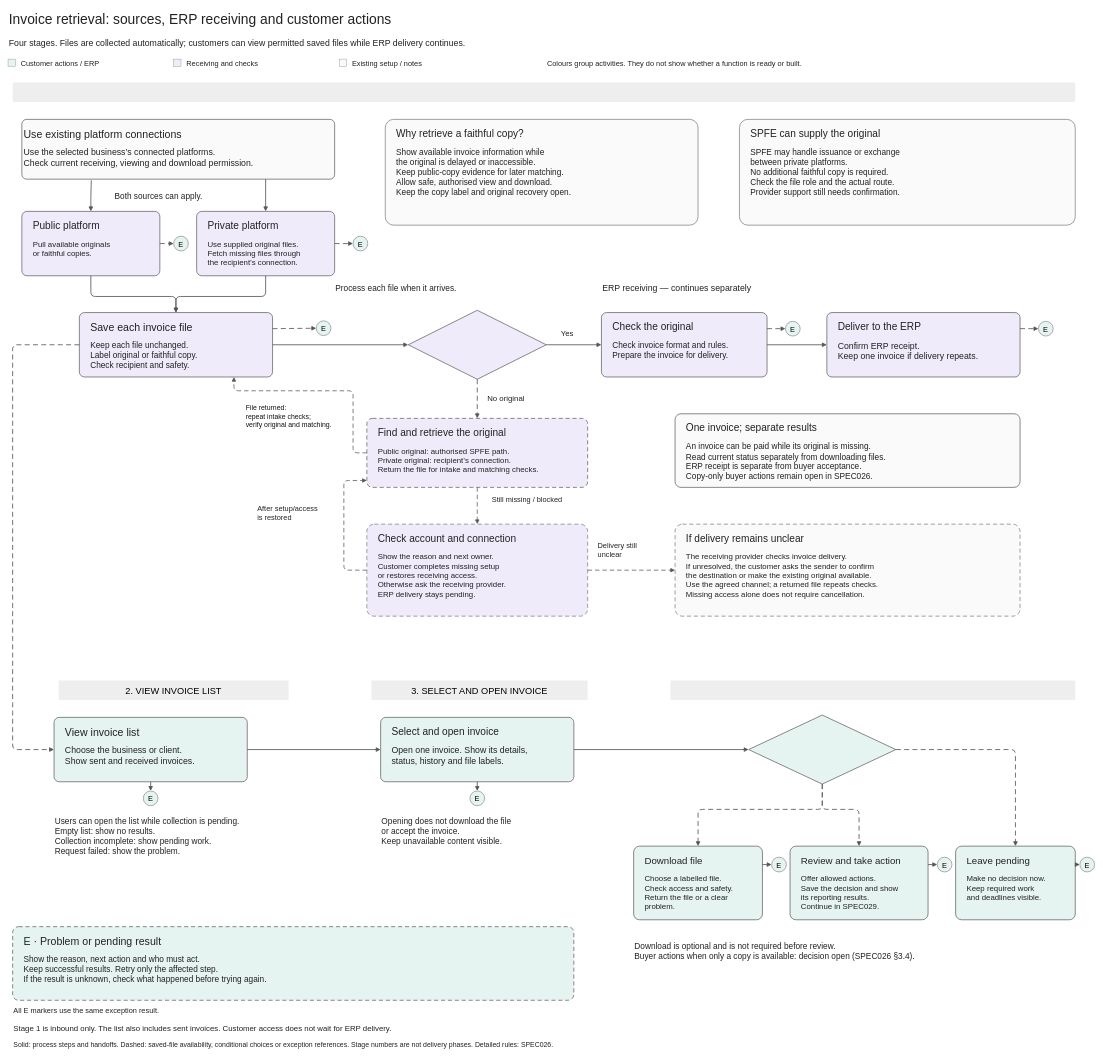
Image size: 1103x1058. Some labels were removed from this diagram. Each missing label, with the centre of its shape:
"1. RECEIVE AND SAVE INVOICES — AUTOMATIC" goes at [543,92].
"4. CHOOSE THE NEXT ACTION" goes at [872,690].
"Choose the next action" goes at [822,749].
"Is the original already saved?" goes at [477,344].
